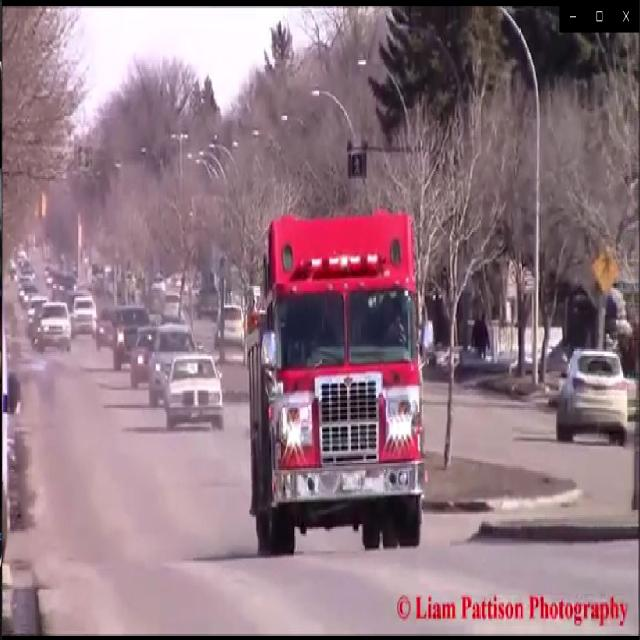emergency: (244, 214, 435, 573)
